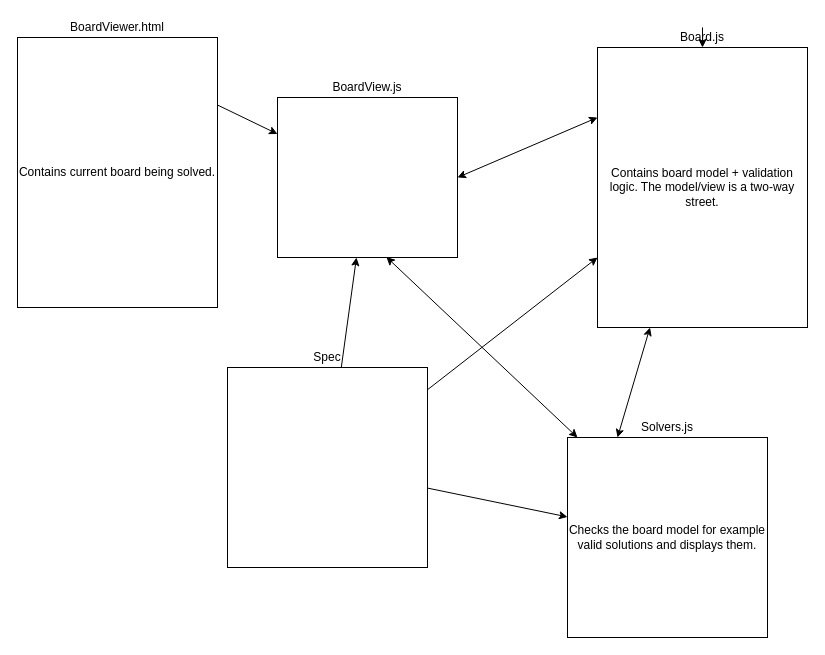
Image size: 825x655. Some labels were removed from this diagram. The shapes that lost their labels are listed below. From the top down, each one's box as (x1, y1, x2, y2) in pixels, then its label:
(276, 96, 458, 258): Contains the logic for the board display.
(226, 366, 428, 568): Contains test cases for BoardView, Board, and Solvers.
